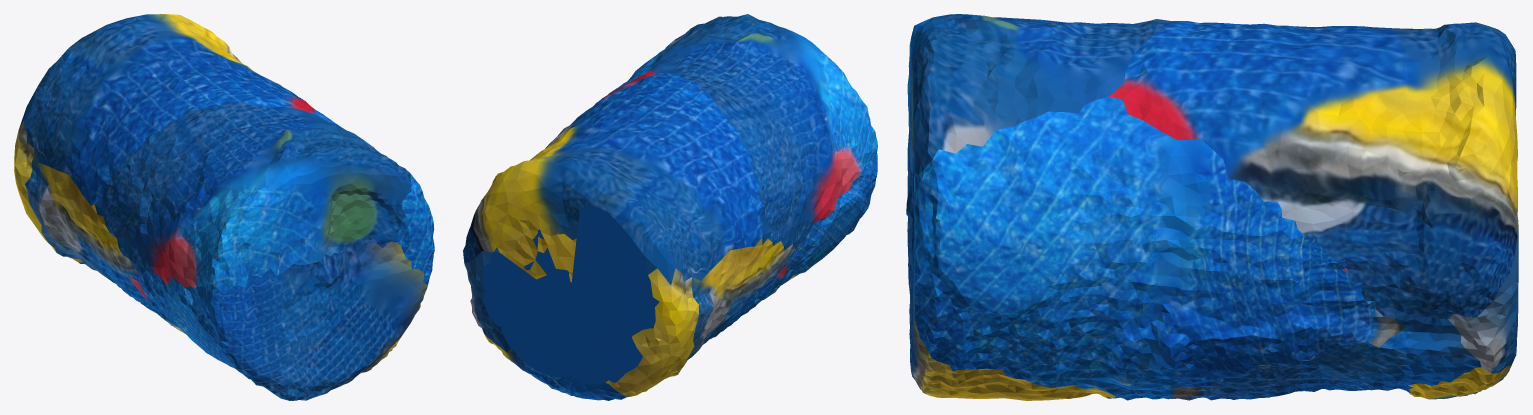
The model's file is salt_can.obj.
3 renders of one model, left to right at view 1: azimuth 30°, elevation 25°; view 2: azimuth 150°, elevation 25°; view 3: azimuth 270°, elevation 25°, orthographic. The views are drawn at different scales.
Bounding box in the file's own units: 0.0523 × 0.0532 × 0.0817.
